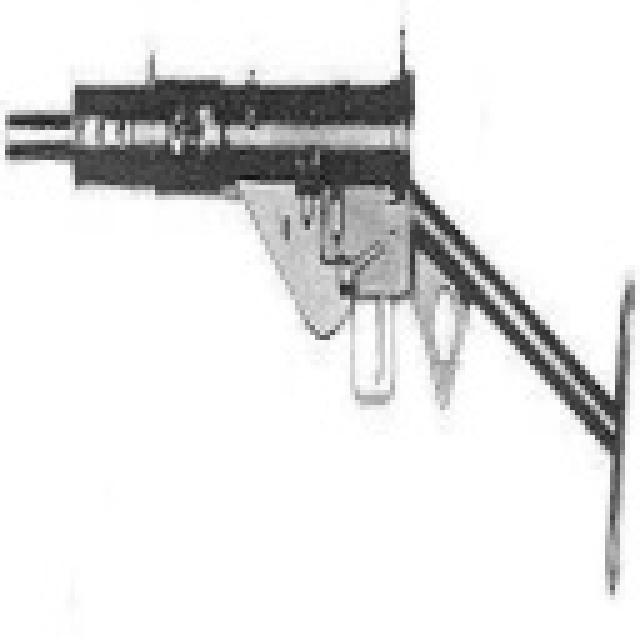Rifle: (18, 42, 540, 408)
